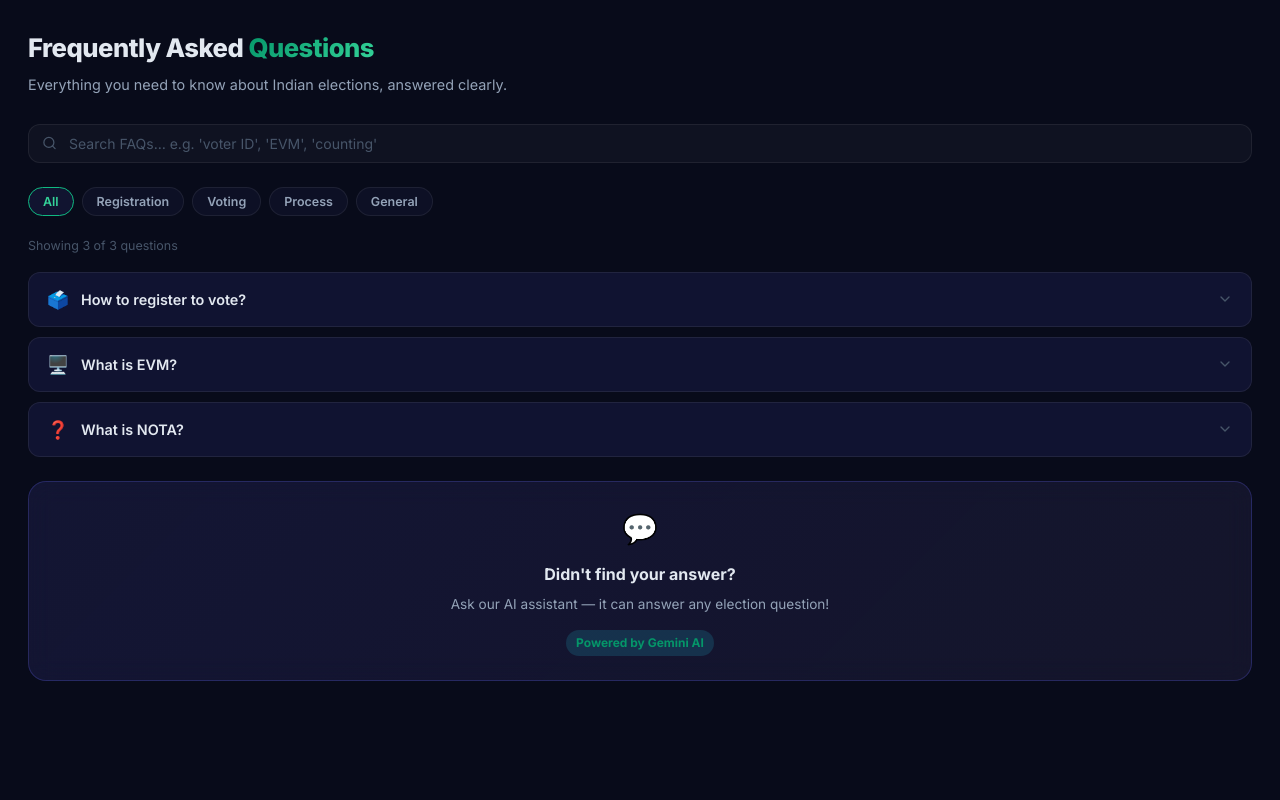
Test case: FAQ Page › shows no results message when search has no matches
The image size is (1280, 800).
Type "xyznonexistent" into the field with placeholder "Search FAQs… e.g. 'voter ID', 'EVM', 'counting'" at point(640, 144), box [28,124,1252,163]
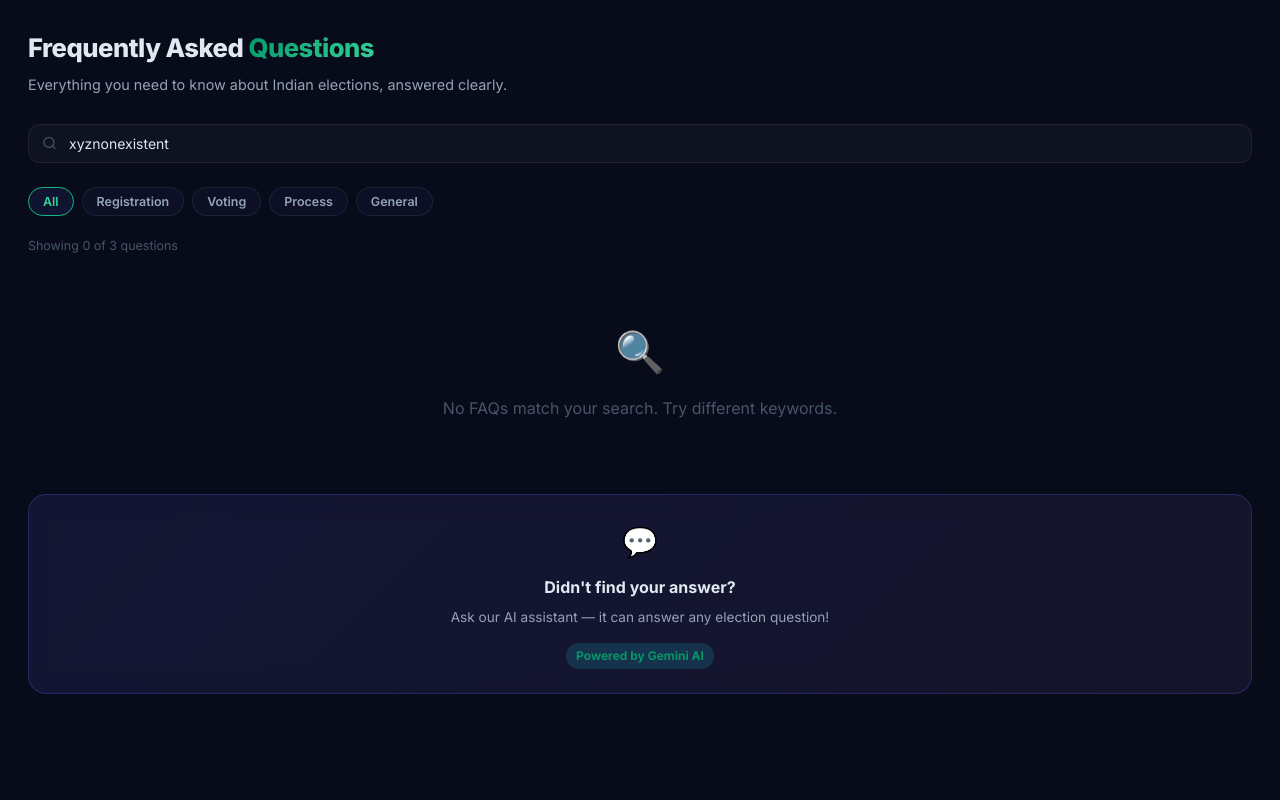
Expected: the text "No FAQs match your search. Try different keywords." is shown, [443,398,837,418]
